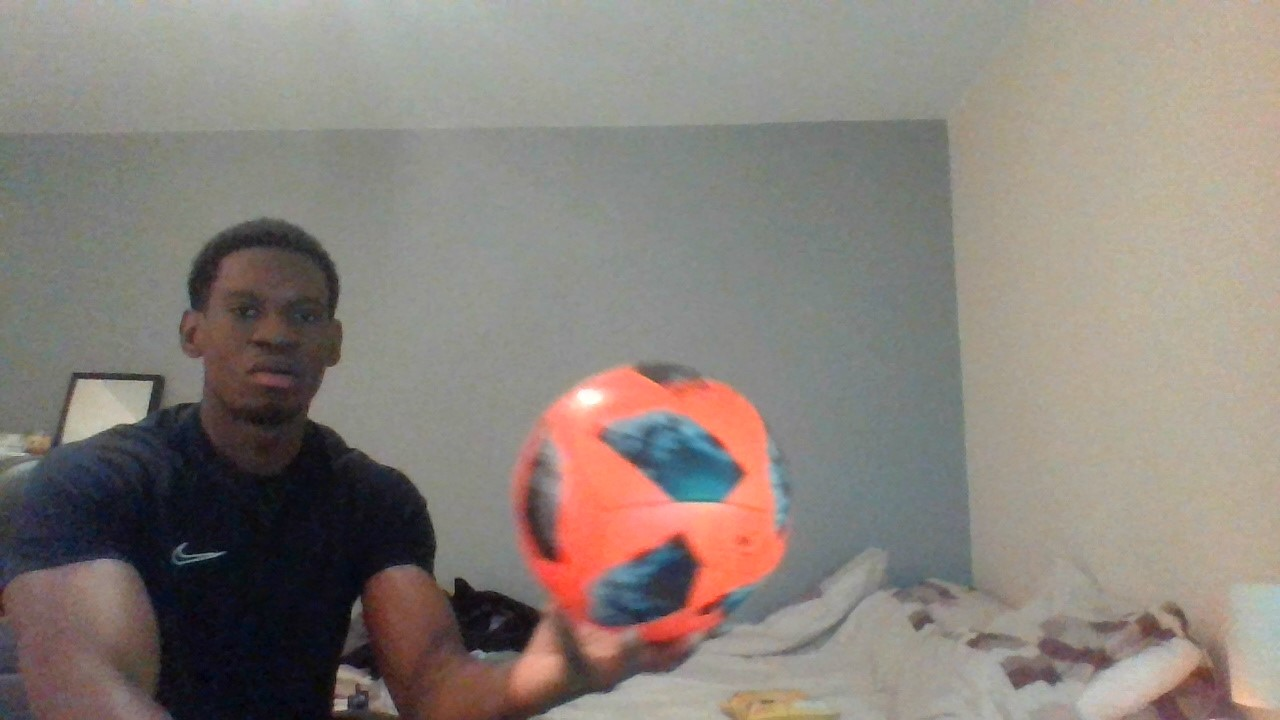football: (523, 363, 810, 633)
